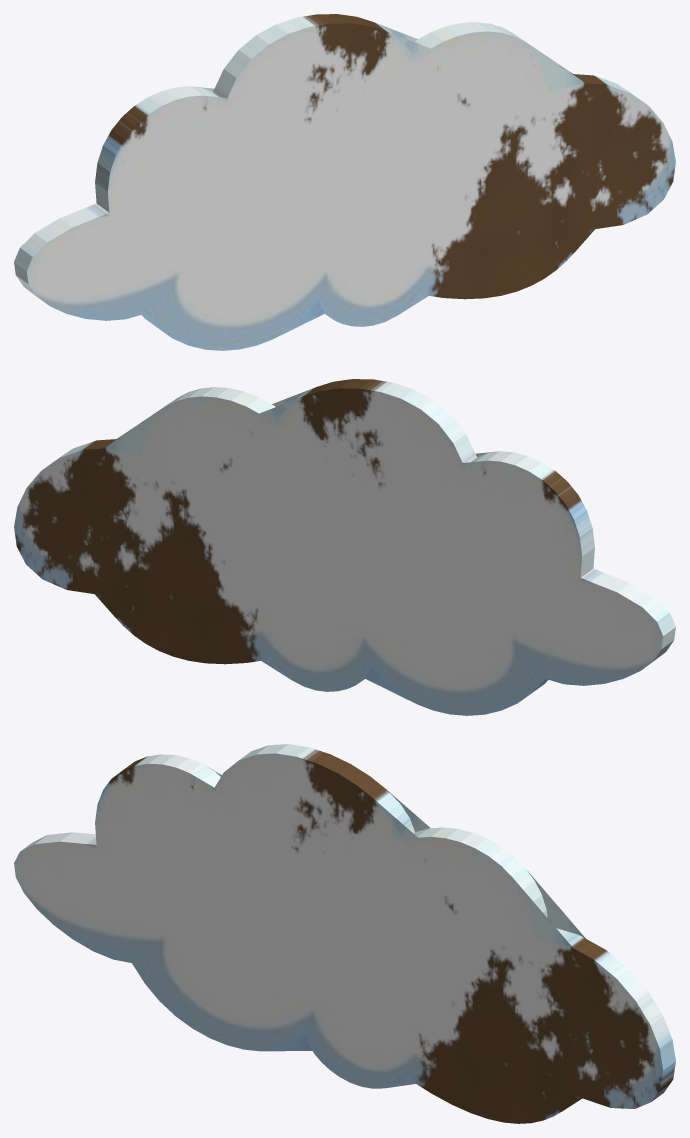
The model's file is nuve 1.fbx.
3 renders of one model, top to bottom at view 1: azimuth 30°, elevation 25°; view 2: azimuth 150°, elevation 25°; view 3: azimuth 330°, elevation 25°, orthographic.
Visible parts, largest first — view 1: nuve 1; view 2: nuve 1; view 3: nuve 1.
Part boxes in pixels (bbox=[...]): nuve 1: bbox=[14, 14, 675, 350]; nuve 1: bbox=[14, 379, 675, 715]; nuve 1: bbox=[14, 744, 675, 1123].
Size of the model in its own units: 520 by 242 by 17.73.
1 material, 1 textured.
